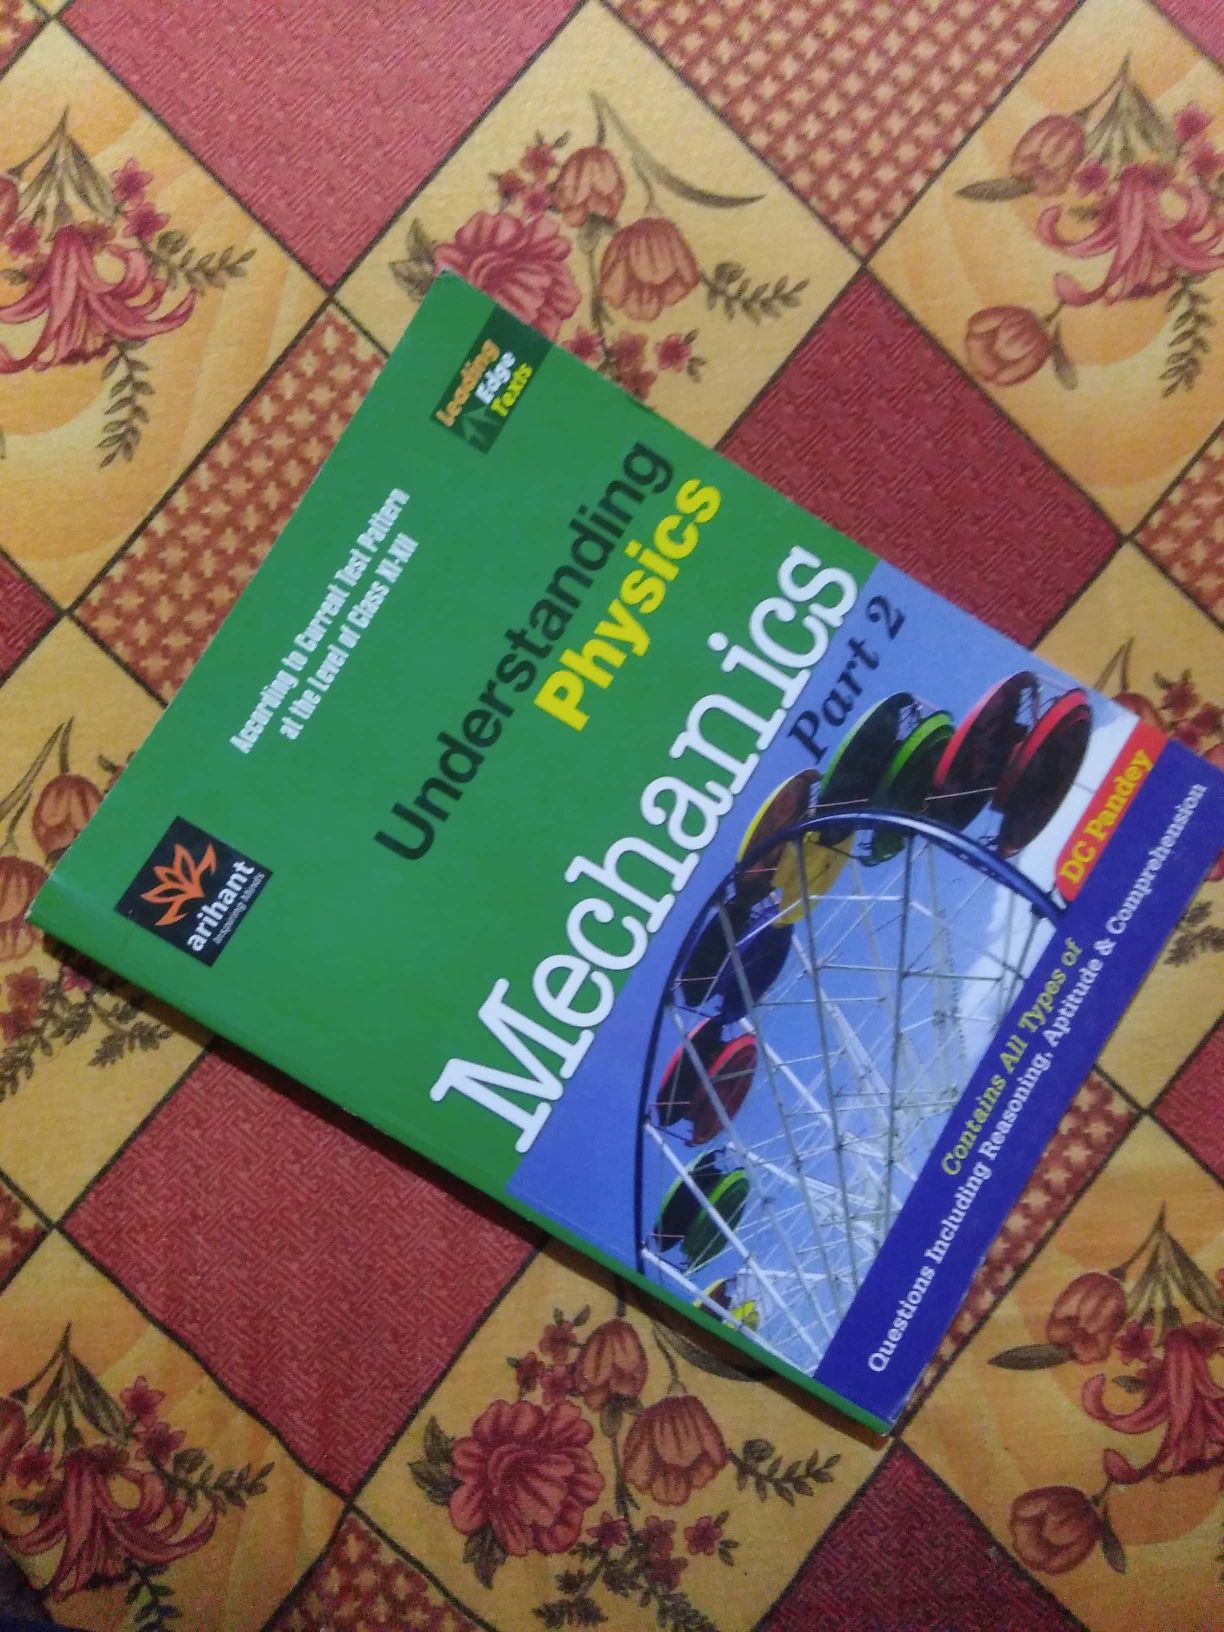mechanics: (36, 302, 1167, 1451)
